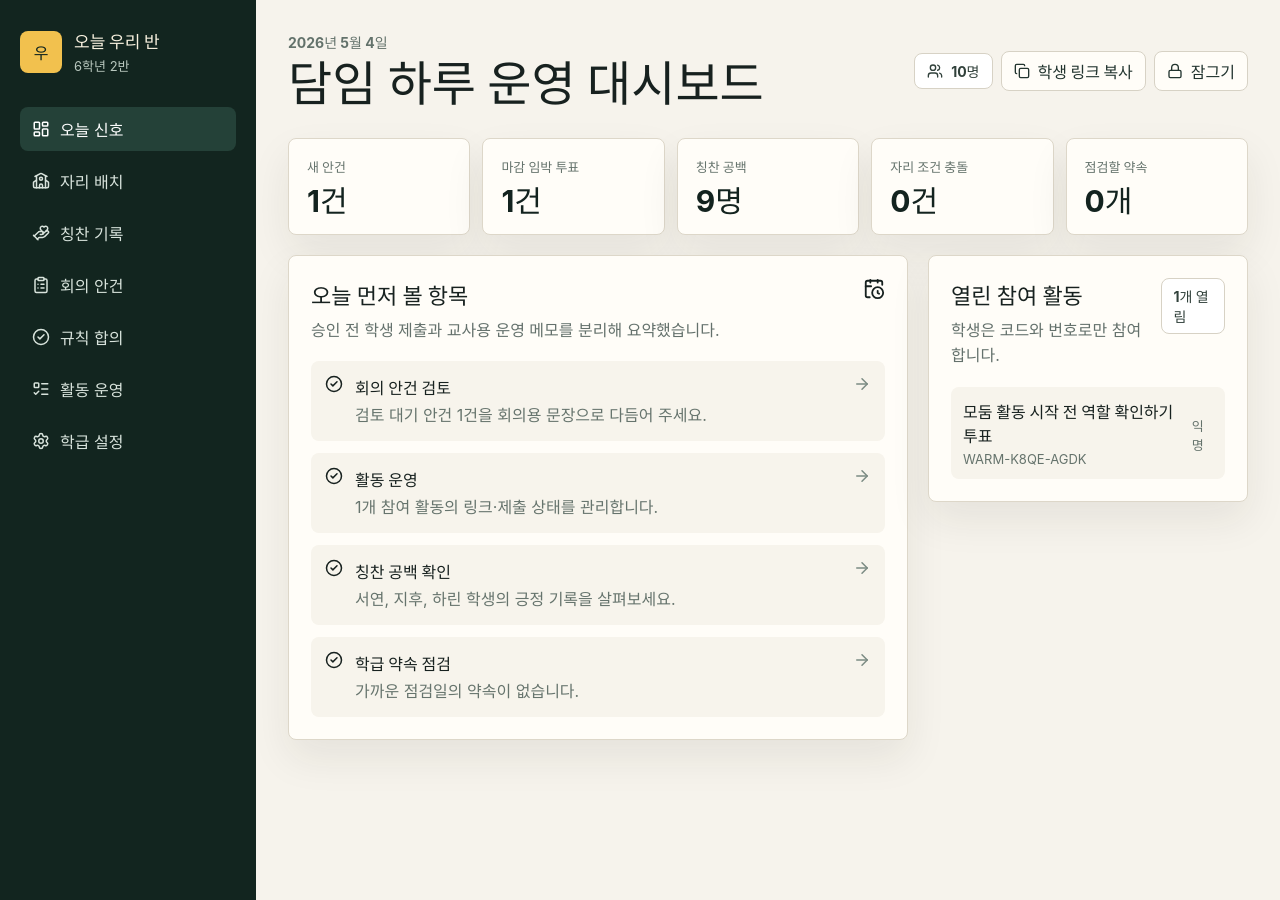
homeroom app workflows › creates policy-aligned deadlines when teacher opens agenda, vote, and confirms rules
Click the button "회의 안건": (128, 285) [20,263,236,307]
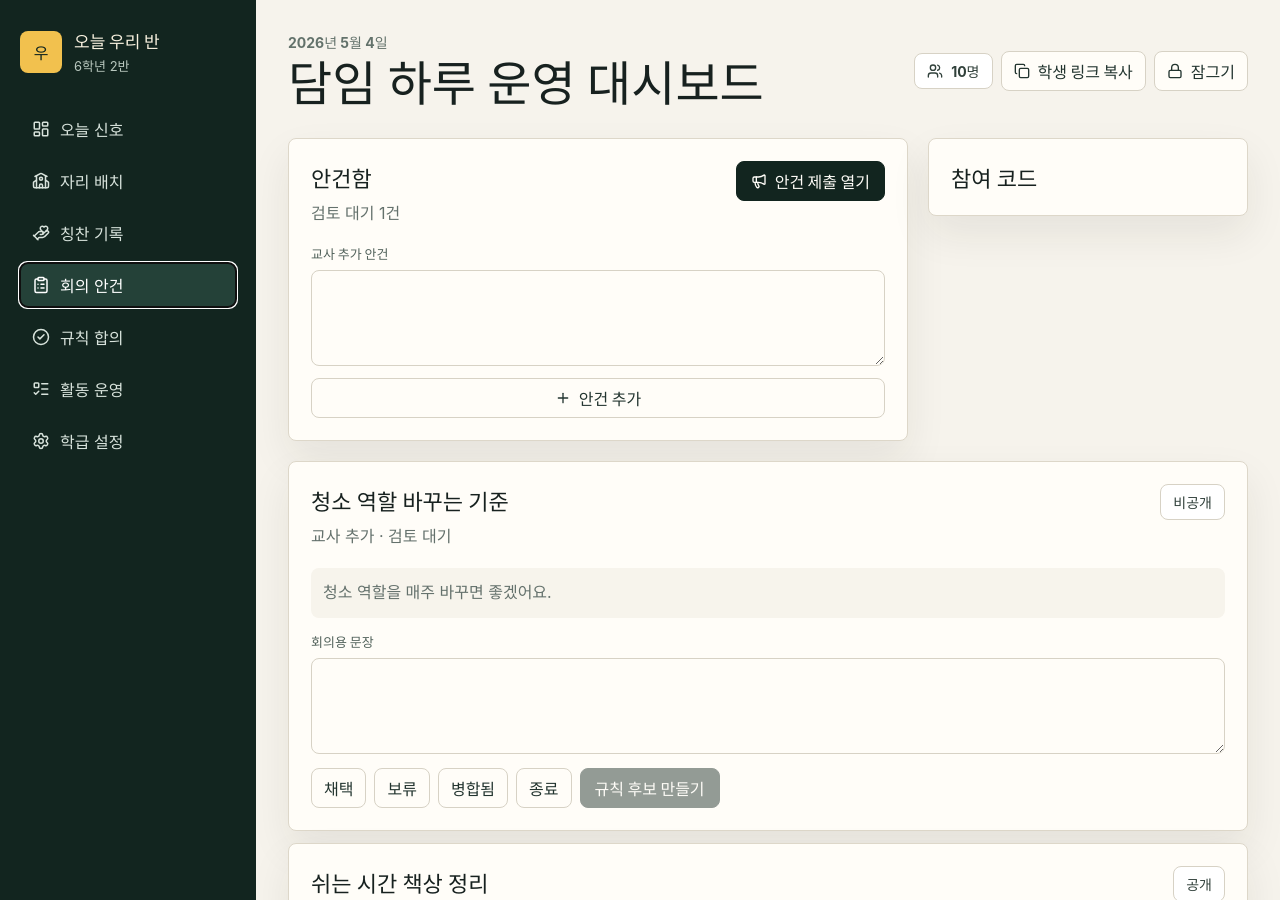
Click the button "안건 제출 열기": (810, 181) [736,161,885,201]
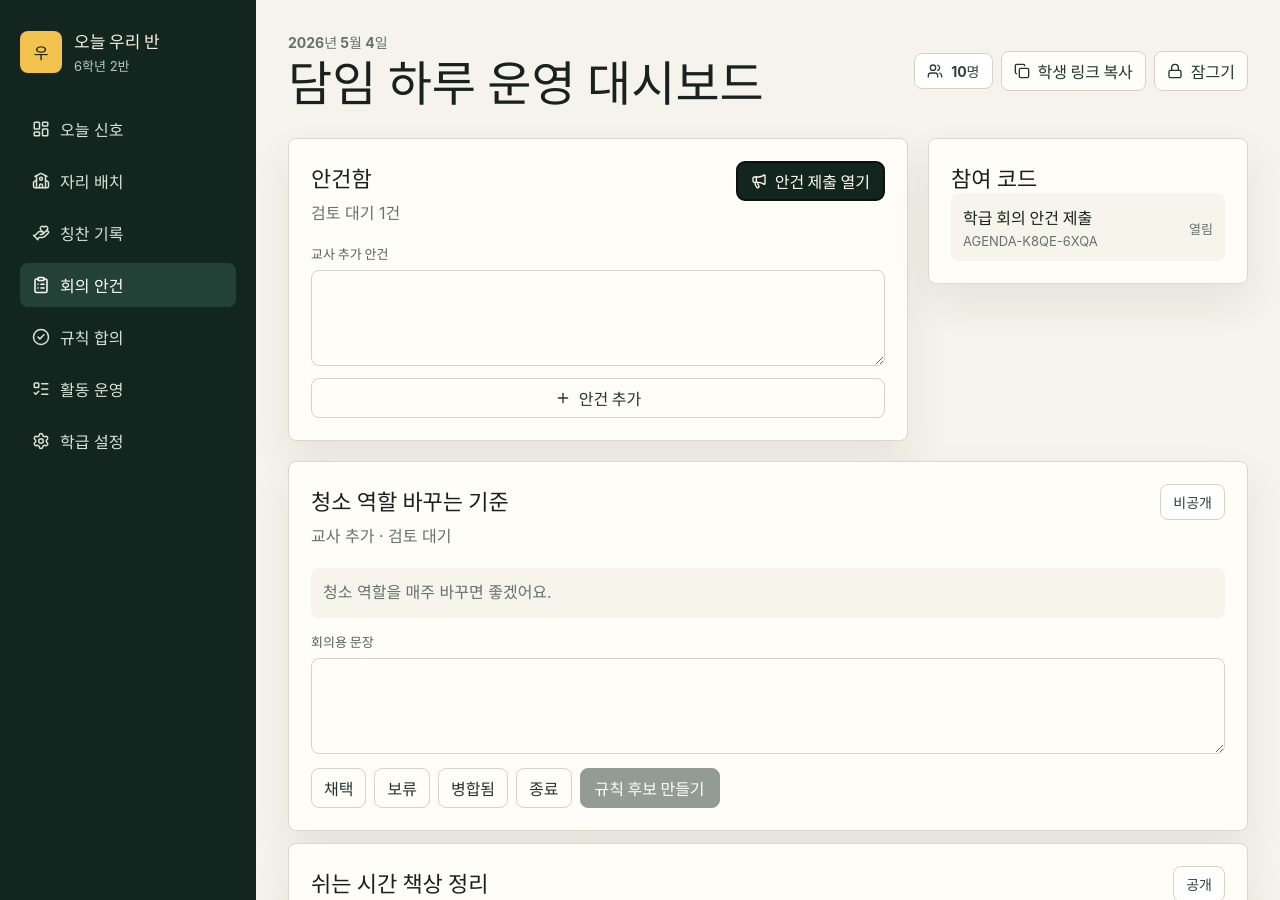
Click the button "규칙 합의": (128, 337) [20,315,236,359]
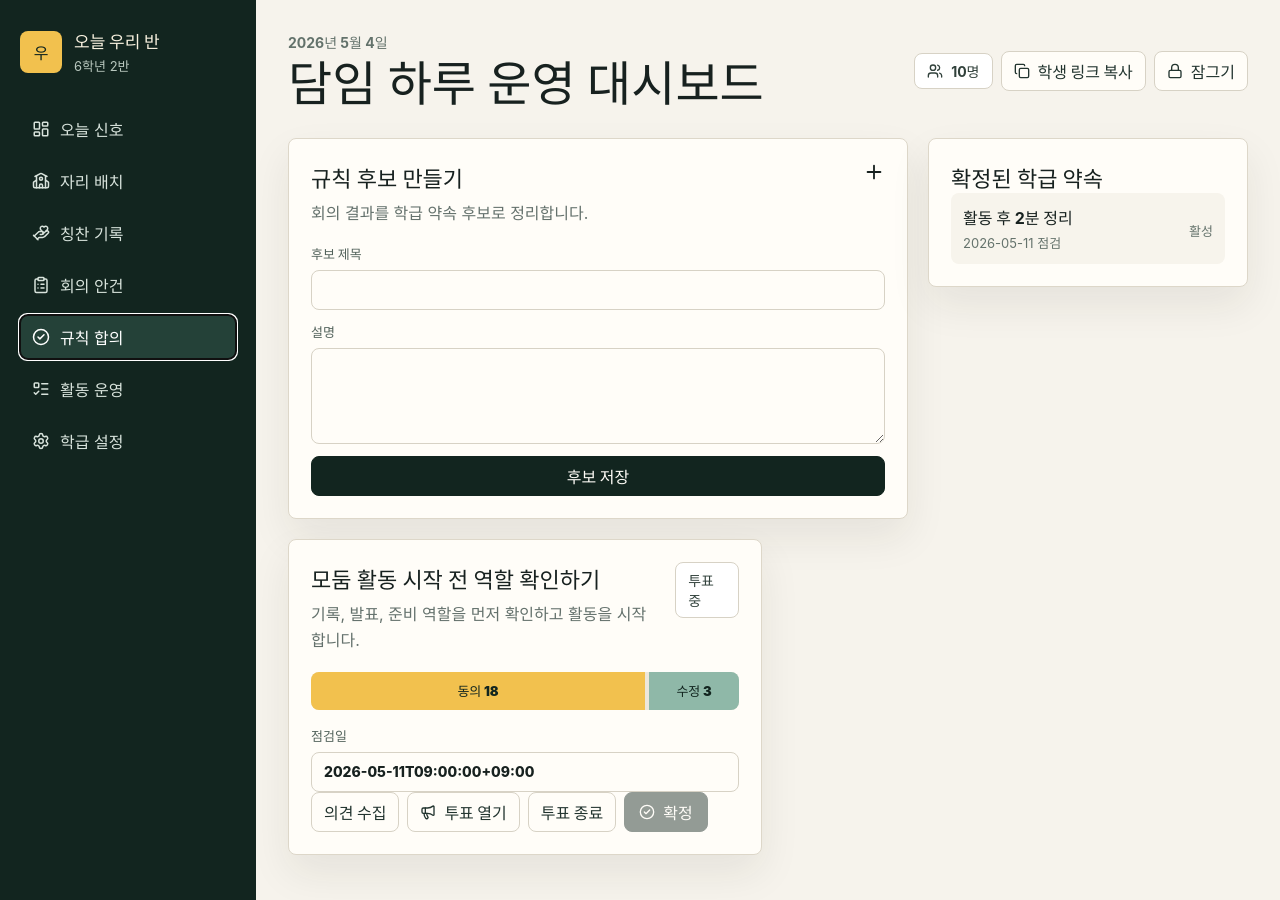
Click the button "투표 열기": (464, 812) [407,792,520,832]
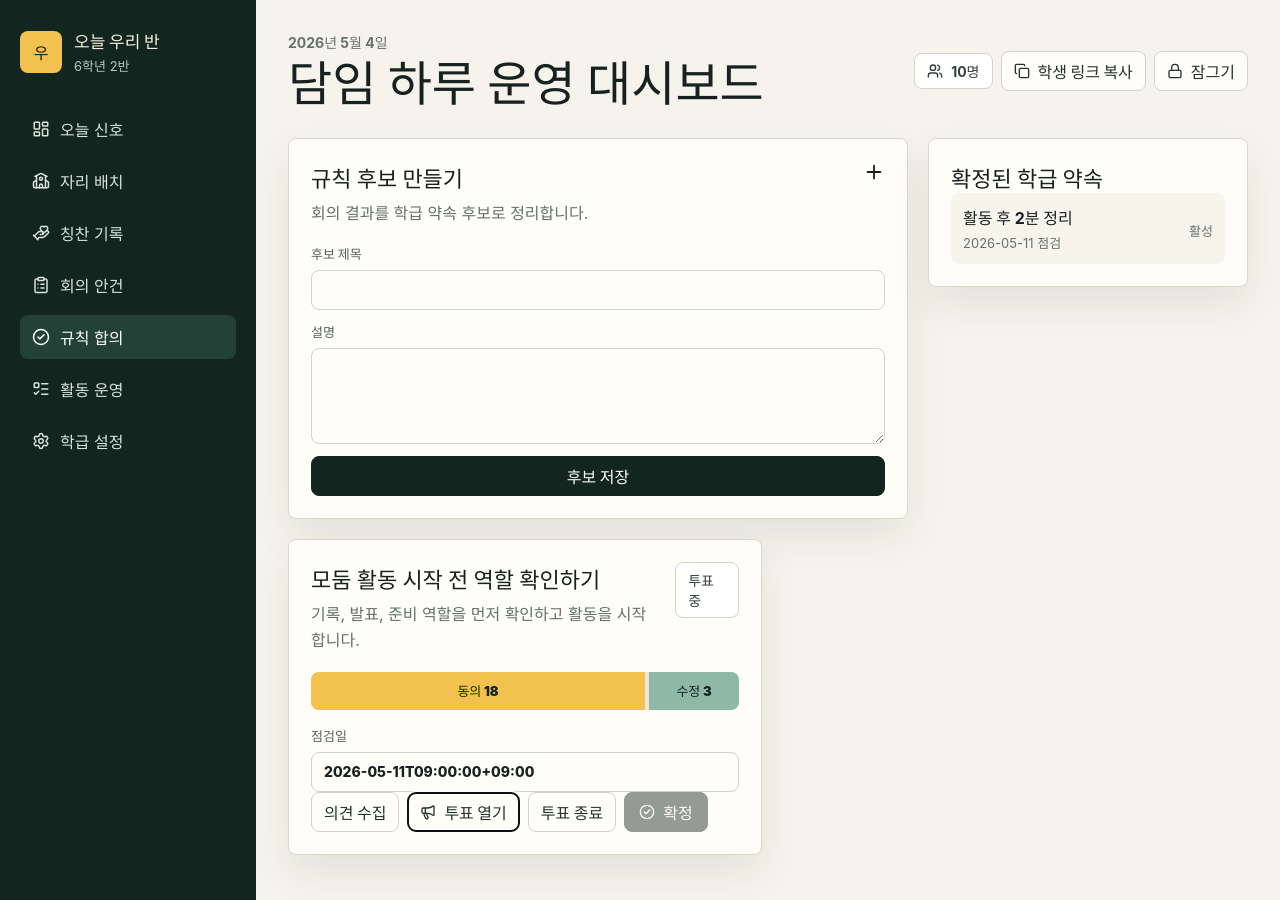
Click the button "투표 종료": (572, 812) [528,792,616,832]
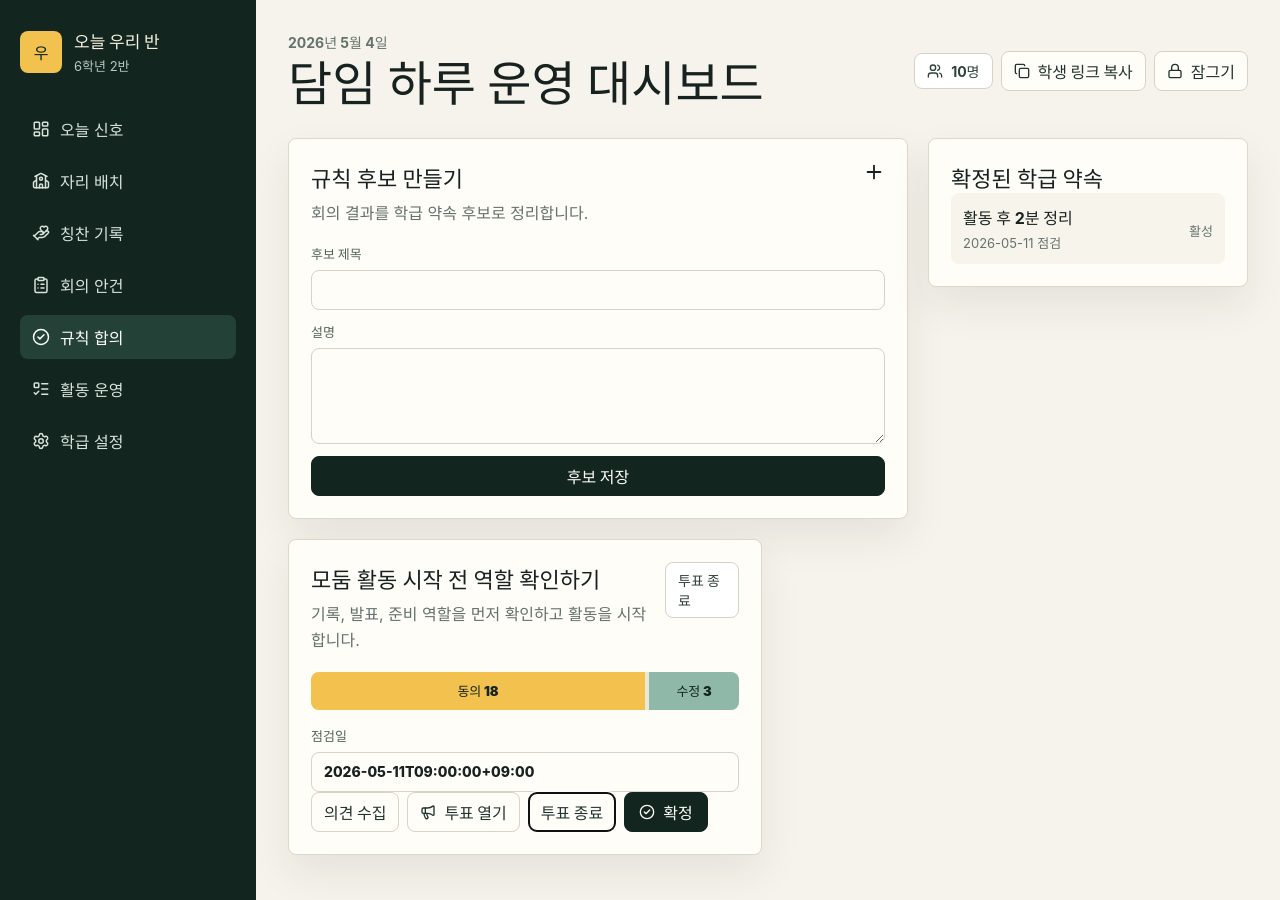
Click the button "확정": (666, 812) [624,792,708,832]
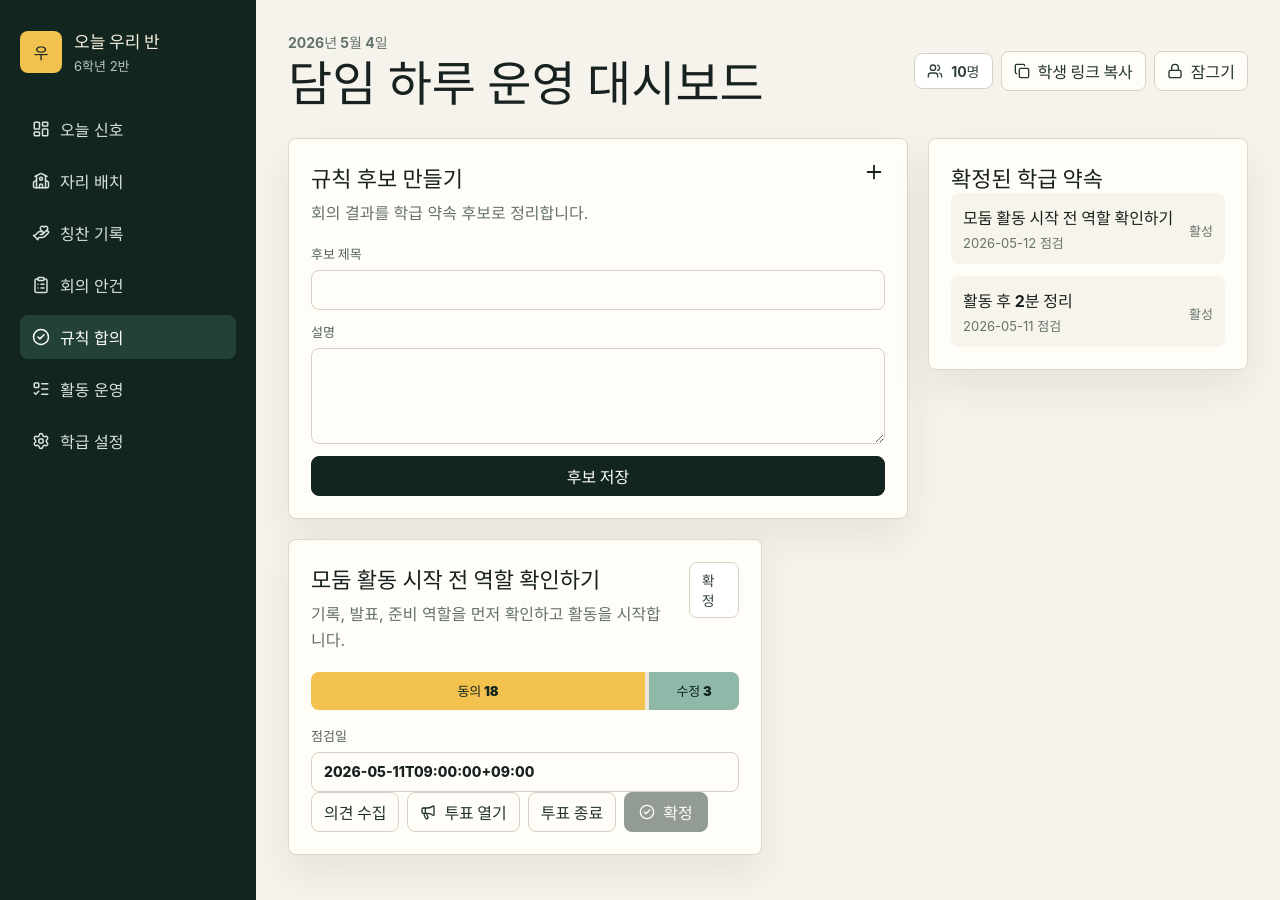
Check: the text "모둠 활동 시작 전 역할 확인하기" is shown, box [963,205,1173,229]
